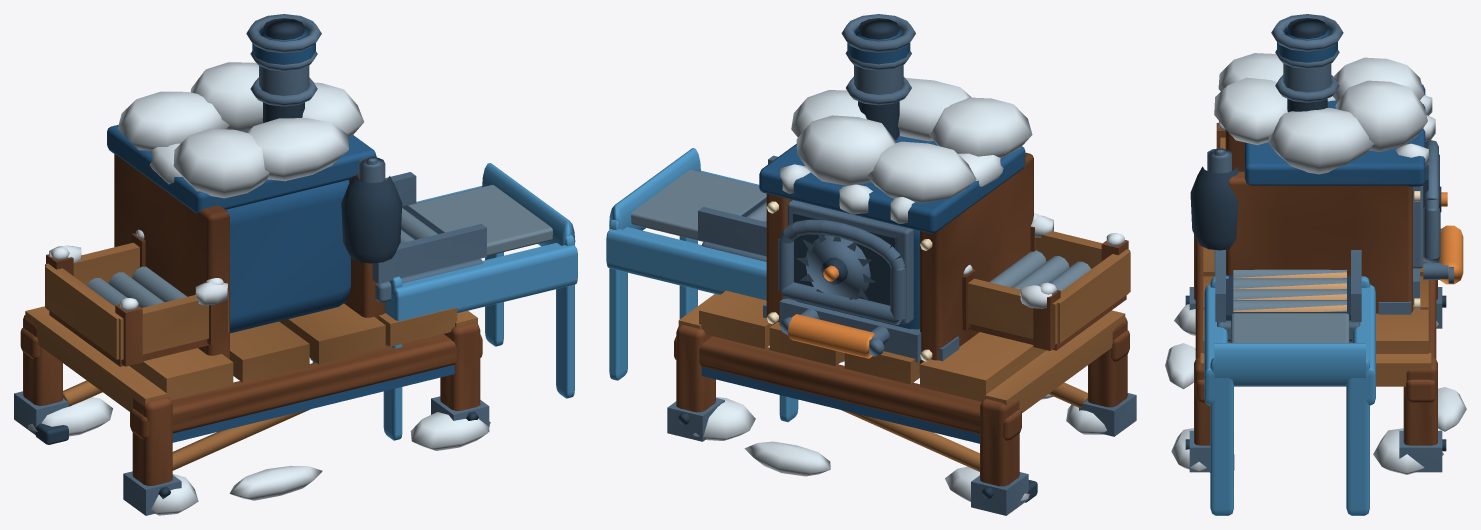
The model's file is cooker_camp_line.glb.
3 renders of one model, left to right at view 1: azimuth 30°, elevation 25°; view 2: azimuth 150°, elevation 25°; view 3: azimuth 270°, elevation 25°, orthographic. The views are drawn at different scales.
Parts seen in each view (by area): view 1: CookerWorkshop, WorkRoller4, WorkRoller3; view 2: CookerWorkshop, OriginalSaw, WorkRoller4, WorkRoller3; view 3: CookerWorkshop, WorkRoller6, WorkRoller8, WorkRoller7, WorkRoller5.
Boxes of the visible parts, box(x1,y1,x2,y2) form: CookerWorkshop: box(14, 14, 577, 515); WorkRoller4: box(132, 266, 187, 302); WorkRoller3: box(109, 272, 164, 307); CookerWorkshop: box(606, 14, 1136, 515); OriginalSaw: box(796, 234, 875, 311); WorkRoller4: box(989, 250, 1046, 287); WorkRoller3: box(1012, 256, 1069, 289); CookerWorkshop: box(1165, 14, 1466, 515); WorkRoller6: box(1233, 278, 1346, 289); WorkRoller8: box(1233, 300, 1346, 311); WorkRoller7: box(1233, 289, 1346, 299); WorkRoller5: box(1233, 269, 1346, 278).
Bounding box in the file's own units: 2.92 × 2.47 × 1.76.
